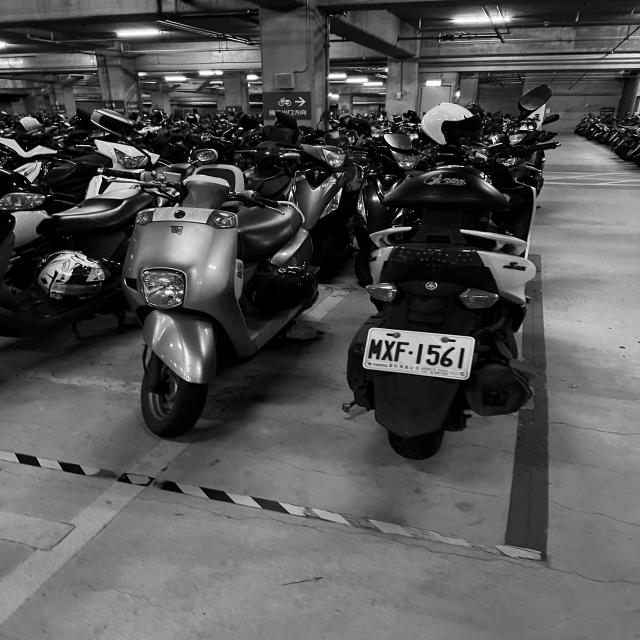-: (409, 350, 413, 355)
1: (457, 347, 466, 369), (416, 343, 424, 365)
5: (425, 344, 443, 366)
6: (439, 345, 457, 368)
F: (393, 341, 411, 362)
M: (368, 339, 383, 360)
X: (381, 340, 397, 362)
plate: (365, 329, 474, 379)
